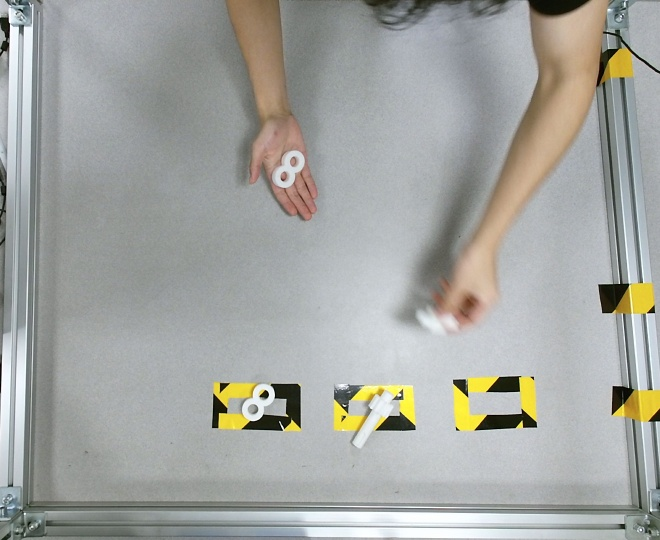stage_1: (271, 150, 305, 188)
